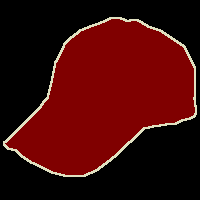hat: (4, 18, 196, 176)
